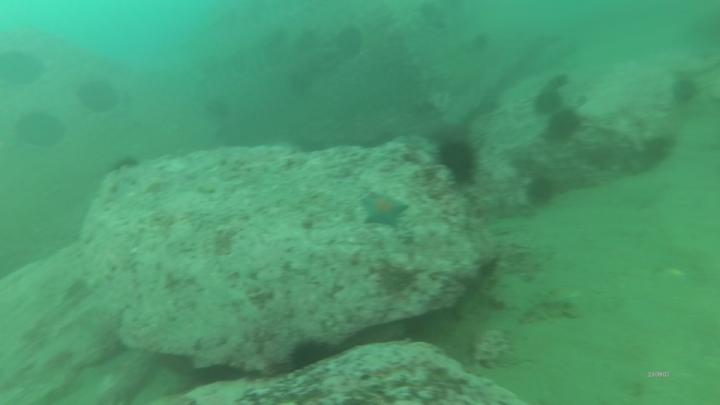echinus: (437, 135, 488, 189), (547, 109, 585, 144), (525, 174, 559, 207), (533, 87, 567, 115), (673, 76, 703, 106)
starfish: (361, 190, 411, 230)
